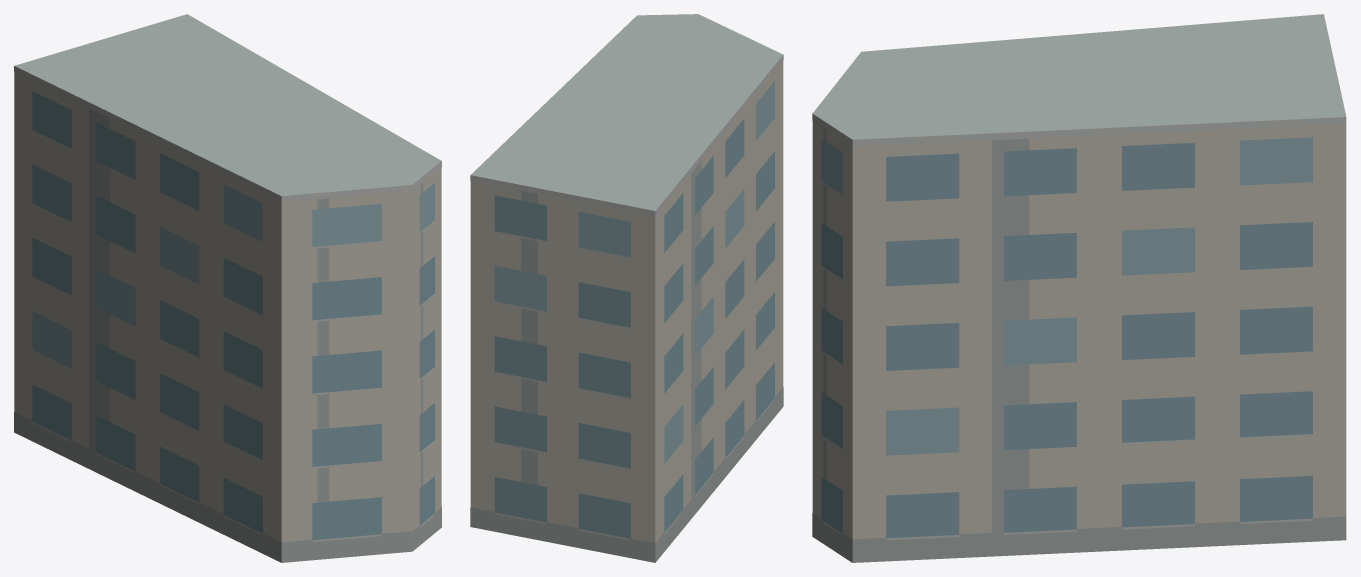
File: survey-upis-32733932.glb
The picture shows the model from 3 angles, left to right: view 1: azimuth 30°, elevation 25°; view 2: azimuth 150°, elevation 25°; view 3: azimuth 270°, elevation 25°; orthographic projection. The views are drawn at different scales.
Parts seen in each view (by area): view 1: survey-upis-32733932.tmp; view 2: survey-upis-32733932.tmp; view 3: survey-upis-32733932.tmp.
Part boxes in pixels (x1=…): survey-upis-32733932.tmp: x1=14, y1=14, x2=441, y2=562; survey-upis-32733932.tmp: x1=470, y1=14, x2=783, y2=562; survey-upis-32733932.tmp: x1=812, y1=14, x2=1346, y2=562.
Size of the model in its own units: 9.44 by 14.8 by 16.94.
